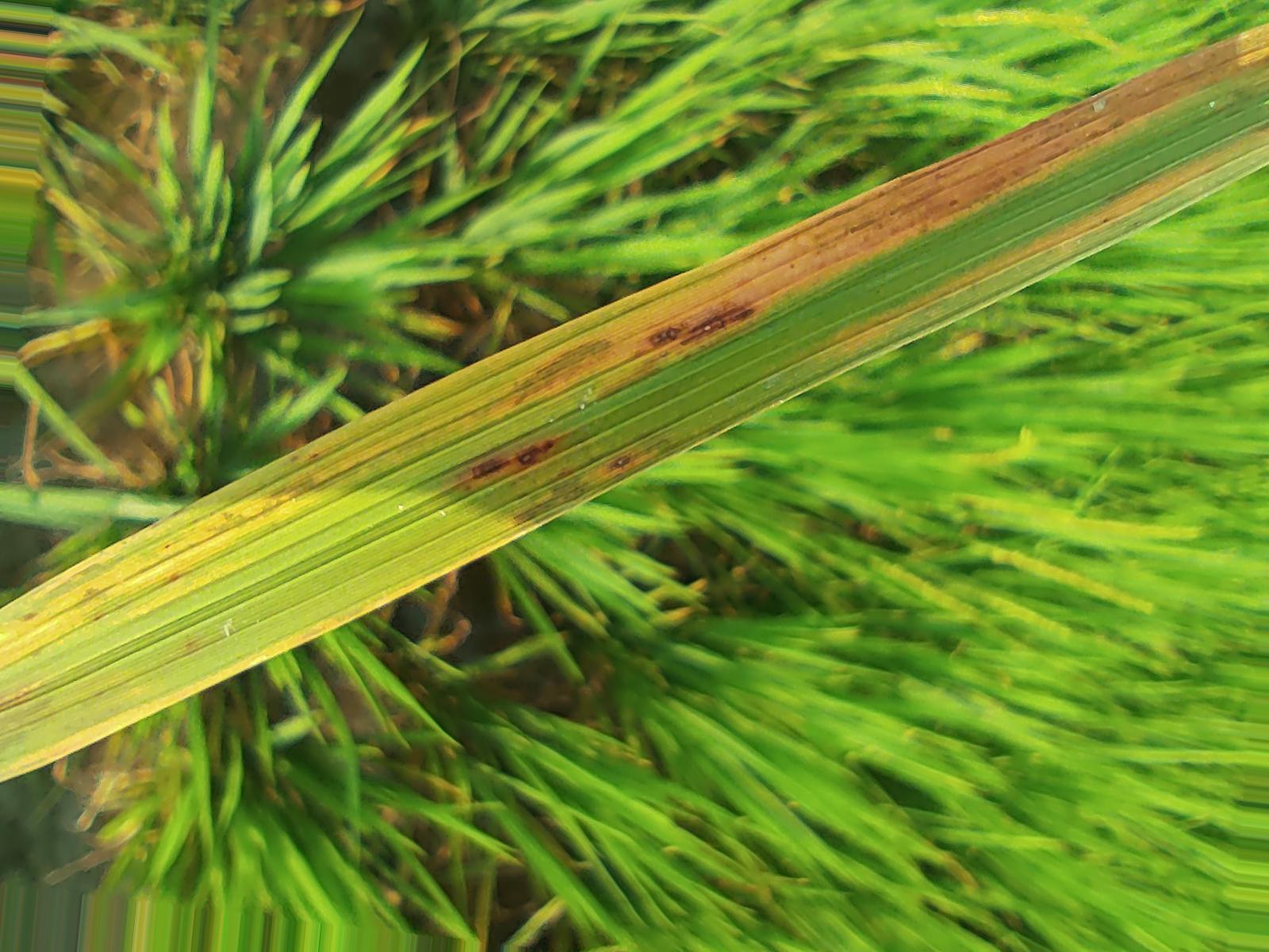LEAF: (0, 26, 1268, 777)
NBS: (681, 307, 757, 346), (517, 439, 557, 464), (471, 457, 511, 481), (648, 324, 683, 349)
